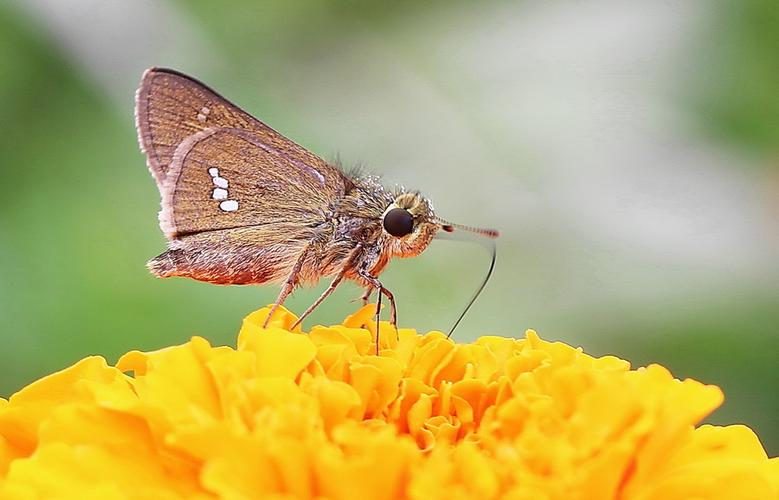Hesperiidae: (127, 64, 507, 335)
